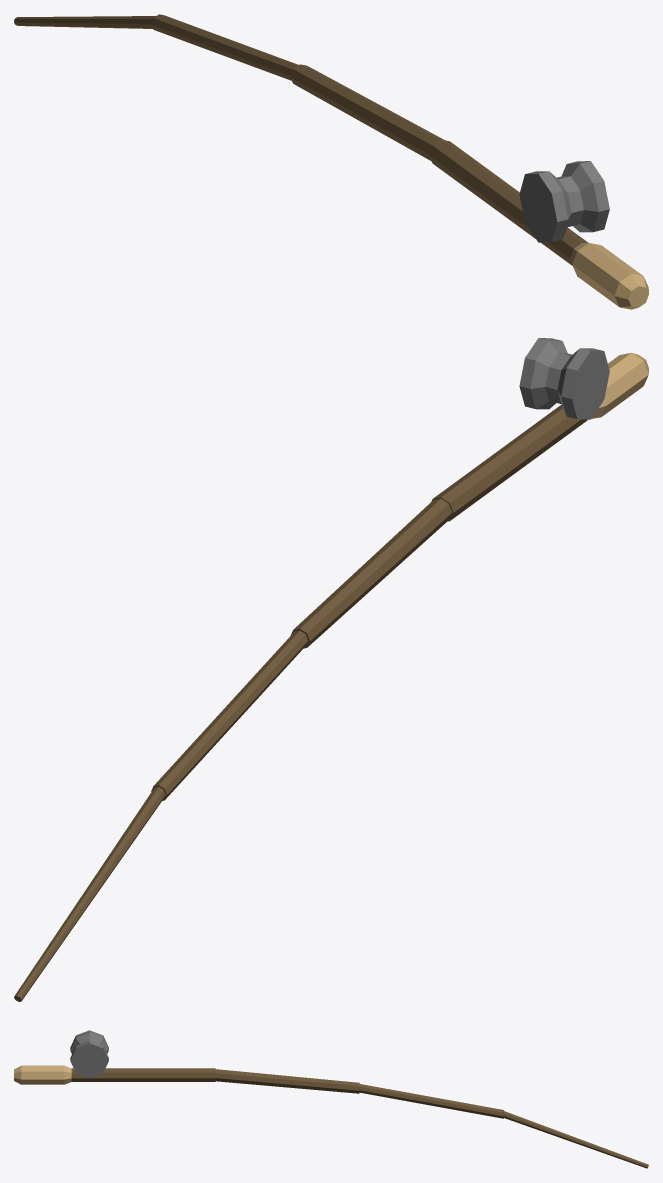
File: island_fishingpole.fbx
The picture shows the model from 3 angles, top to bottom: view 1: azimuth 30°, elevation 25°; view 2: azimuth 150°, elevation 25°; view 3: azimuth 270°, elevation 25°; orthographic projection. The views are drawn at different scales.
Parts seen in each view (by area): view 1: Cylinder.025; view 2: Cylinder.025; view 3: Cylinder.025.
Part boxes in pixels (left/top/right/bottom): Cylinder.025: left=14, top=14, right=648, bottom=309; Cylinder.025: left=14, top=338, right=648, bottom=1001; Cylinder.025: left=14, top=1030, right=648, bottom=1168.
Bounding box in the file's own units: 0.1075 × 0.5045 × 2.2.
